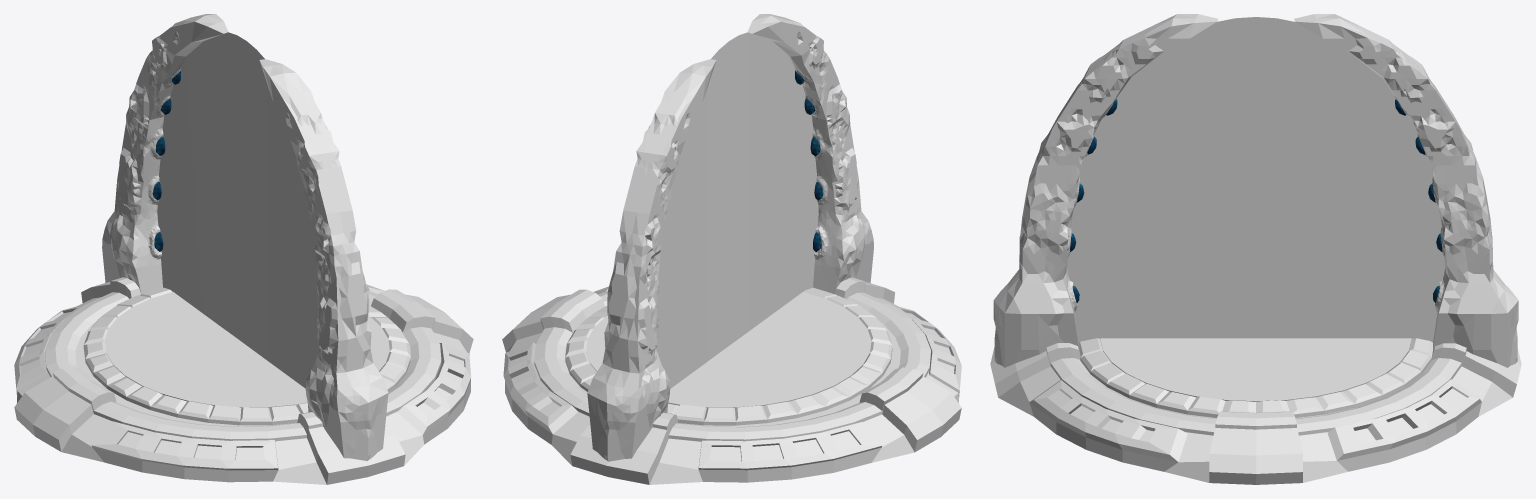
Rendered from portemagicblend.fbx.
3 renders of one model, left to right at view 1: azimuth 30°, elevation 25°; view 2: azimuth 150°, elevation 25°; view 3: azimuth 270°, elevation 25°, orthographic. The views are drawn at different scales.
Parts seen in each view (by area): view 1: Cube.005, Cube, Cube.004, Cube.001; view 2: Cube.005, Cube, Cube.004, Cube.001; view 3: Cube.005, Cube.004, Cube, Cube.001.
Boxes of the visible parts, box(x1,y1,x2,y2) form: Cube.005: box(157, 32, 319, 388); Cube: box(14, 277, 473, 484); Cube.004: box(102, 14, 388, 460); Cube.001: box(83, 287, 410, 425); Cube.005: box(656, 32, 818, 388); Cube: box(502, 277, 961, 484); Cube.004: box(587, 14, 873, 461); Cube.001: box(565, 287, 892, 425); Cube.005: box(1067, 17, 1444, 342); Cube.004: box(993, 14, 1518, 367); Cube: box(990, 343, 1521, 484); Cube.001: box(1079, 338, 1432, 417).
Size of the model in its own units: 411 by 320 by 424.
